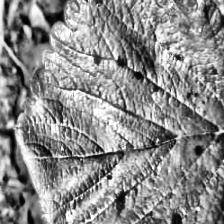Leaf Spot: (13, 0, 224, 224)
